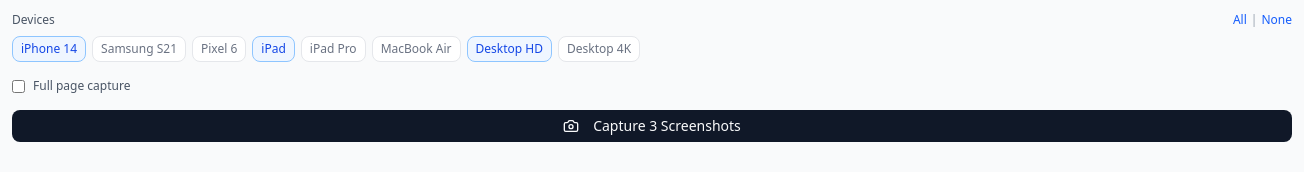
Test: ScreenshotPanel › selects all devices when "All" is clicked
Click the button "All": (1240, 20) [1233,12,1247,28]
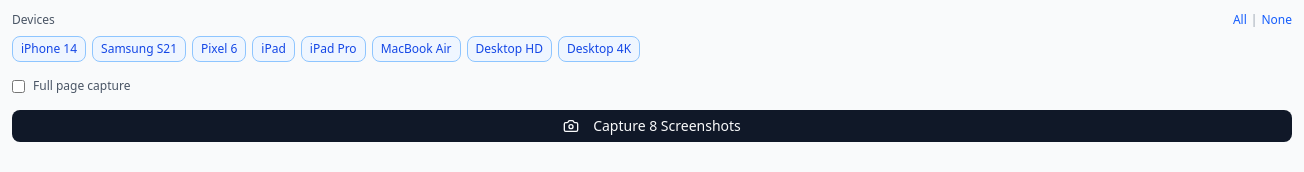
Expected: the button "Capture 8 Screenshots" is shown, [12,110,1292,142]
